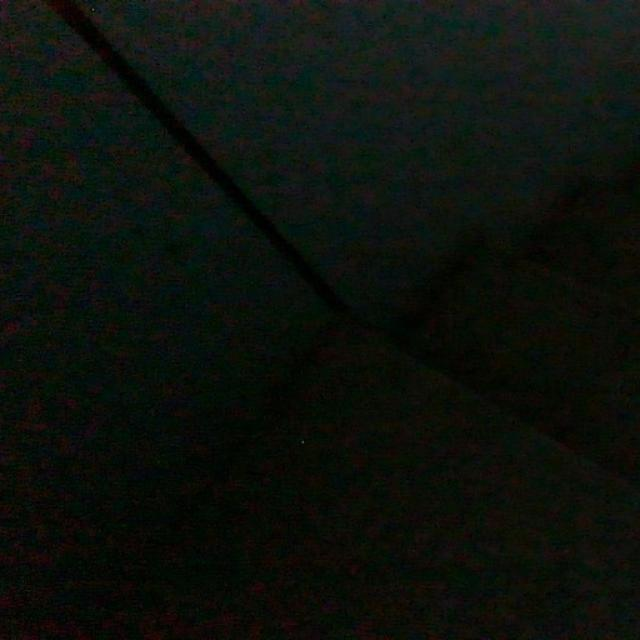stair: (306, 110, 640, 569)
